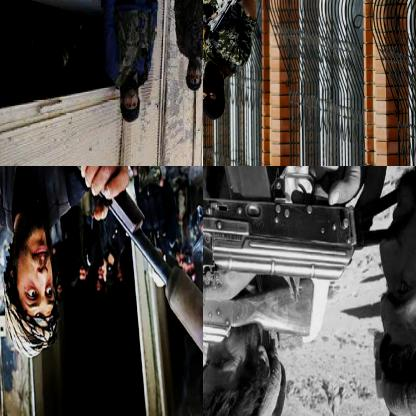rifle: (0, 166, 202, 378), (203, 166, 359, 285), (203, 271, 331, 345), (203, 0, 268, 59)
